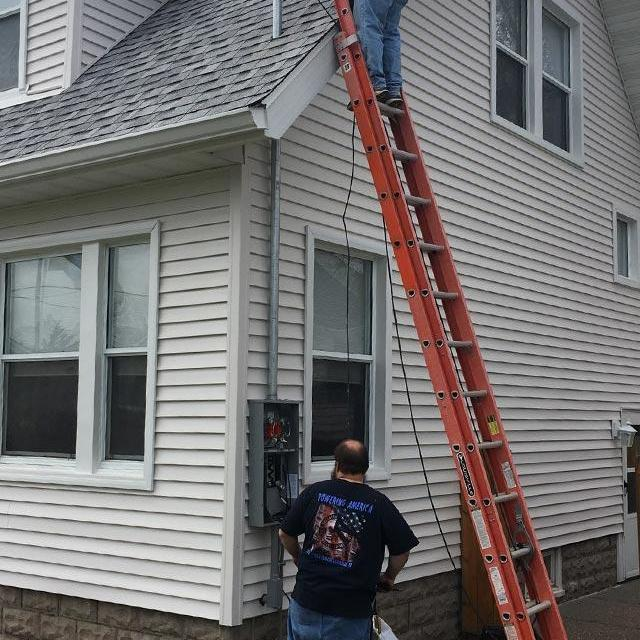Ladder: (330, 0, 604, 640)
NO-Hardhat: (337, 439, 370, 462)
NO-Safety Vest: (292, 476, 387, 614)
Person: (276, 437, 412, 640), (316, 0, 414, 111)
